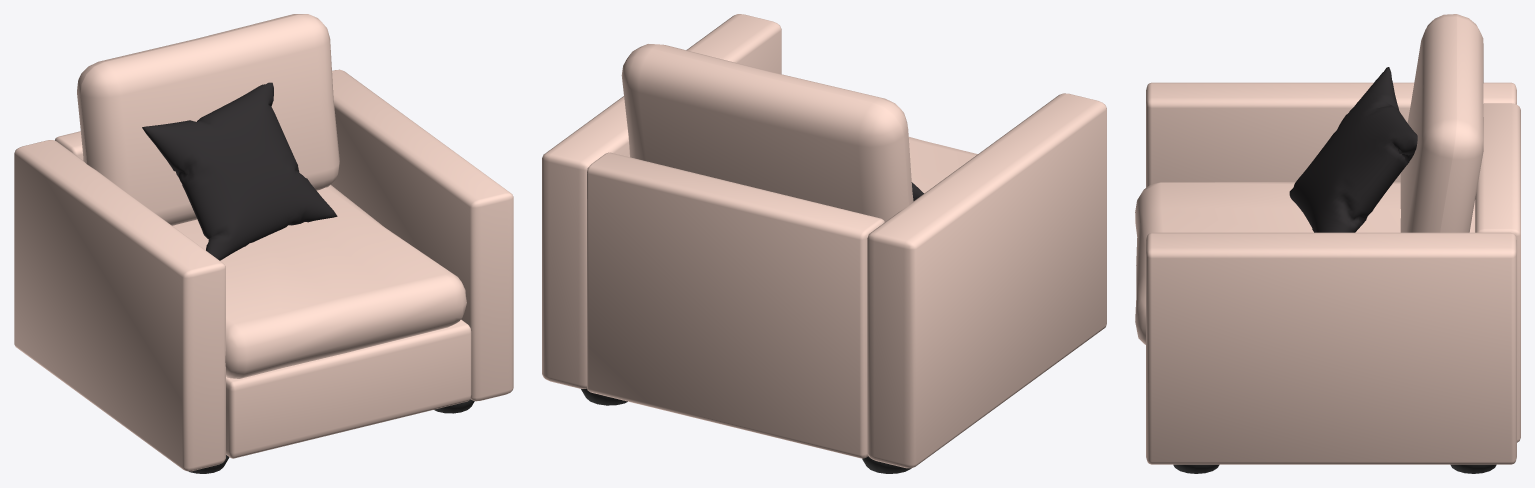
File: white and black armchair.fbx
The picture shows the model from 3 angles, left to right: view 1: azimuth 30°, elevation 25°; view 2: azimuth 150°, elevation 25°; view 3: azimuth 270°, elevation 25°; orthographic projection. The views are drawn at different scales.
Parts seen in each view (by area): view 1: Cube; view 2: Cube; view 3: Cube.
Boxes of the visible parts, box(x1,y1,x2,y2) form: Cube: box(14, 14, 513, 473); Cube: box(542, 14, 1106, 473); Cube: box(1135, 14, 1520, 473).
Bounding box in the file's own units: 135 × 120 × 127.
